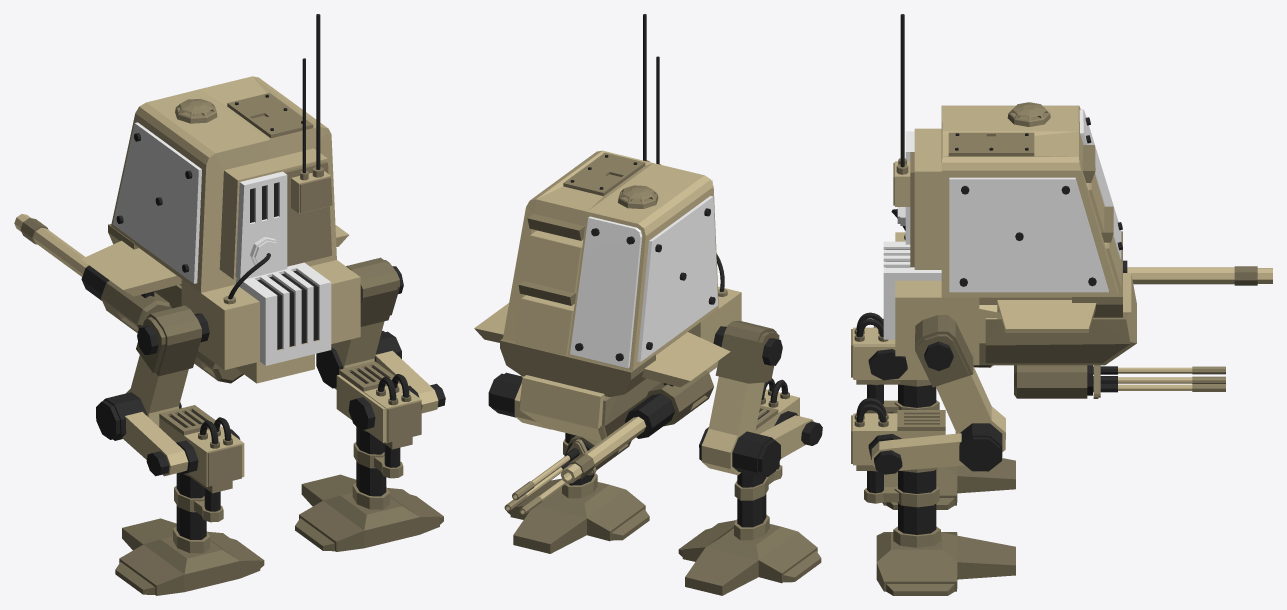
3 views of the same model, side by side, from view 1: azimuth 30°, elevation 25°; view 2: azimuth 150°, elevation 25°; view 3: azimuth 270°, elevation 25° (orthographic). The views are drawn at different scales.
Visible parts, largest first — view 1: _042.1; view 2: _042.1; view 3: _042.1.
Boxes of the visible parts, x1,y1,x2,y2 form: _042.1: (14, 14, 445, 595); _042.1: (474, 14, 822, 595); _042.1: (851, 14, 1272, 595).
Bounding box in the file's own units: 98.83 × 167 × 122.
